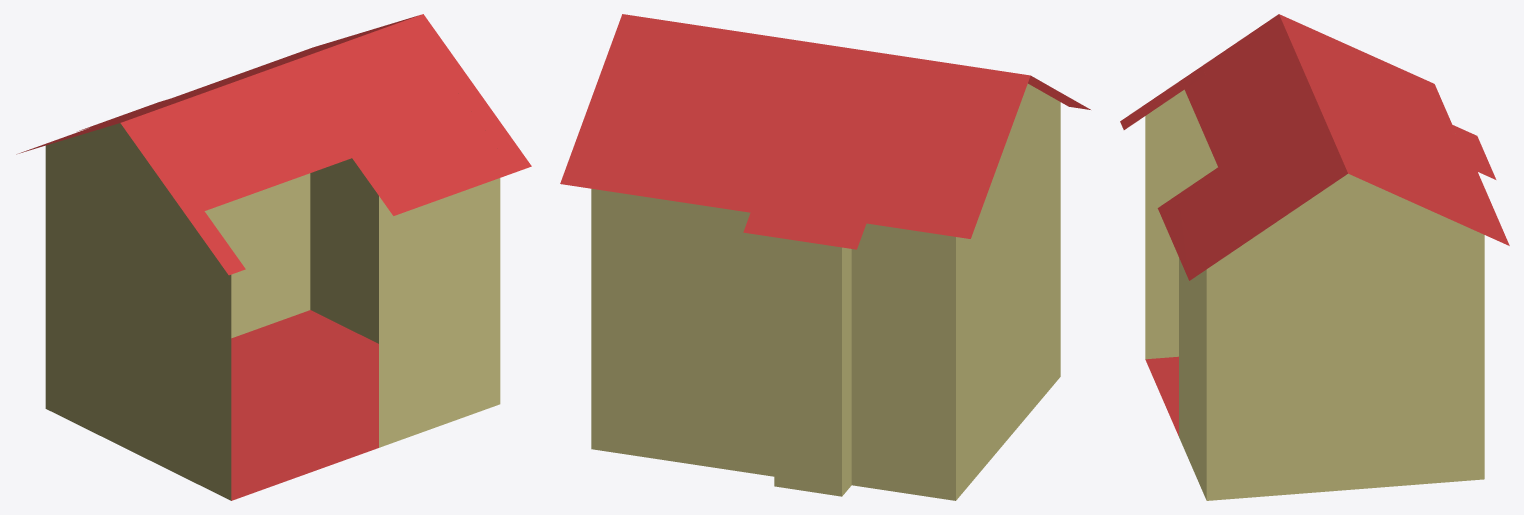
The picture shows the model from 3 angles, left to right: view 1: azimuth 30°, elevation 25°; view 2: azimuth 150°, elevation 25°; view 3: azimuth 270°, elevation 25°; orthographic projection. The views are drawn at different scales.
Size of the model in its own units: 15.08 by 13.5 by 12.44.
